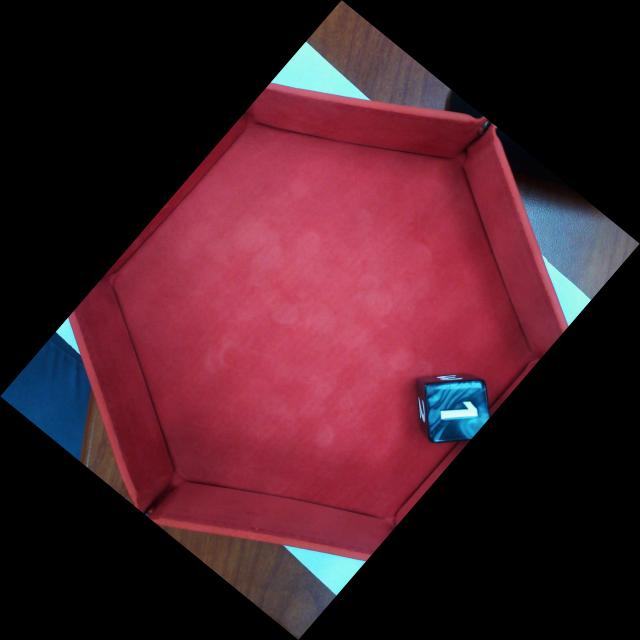dice: (430, 386, 491, 444)
